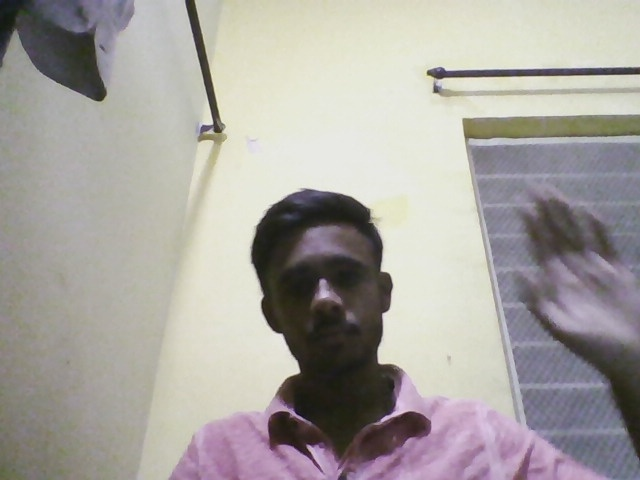hello: (507, 160, 640, 366)
